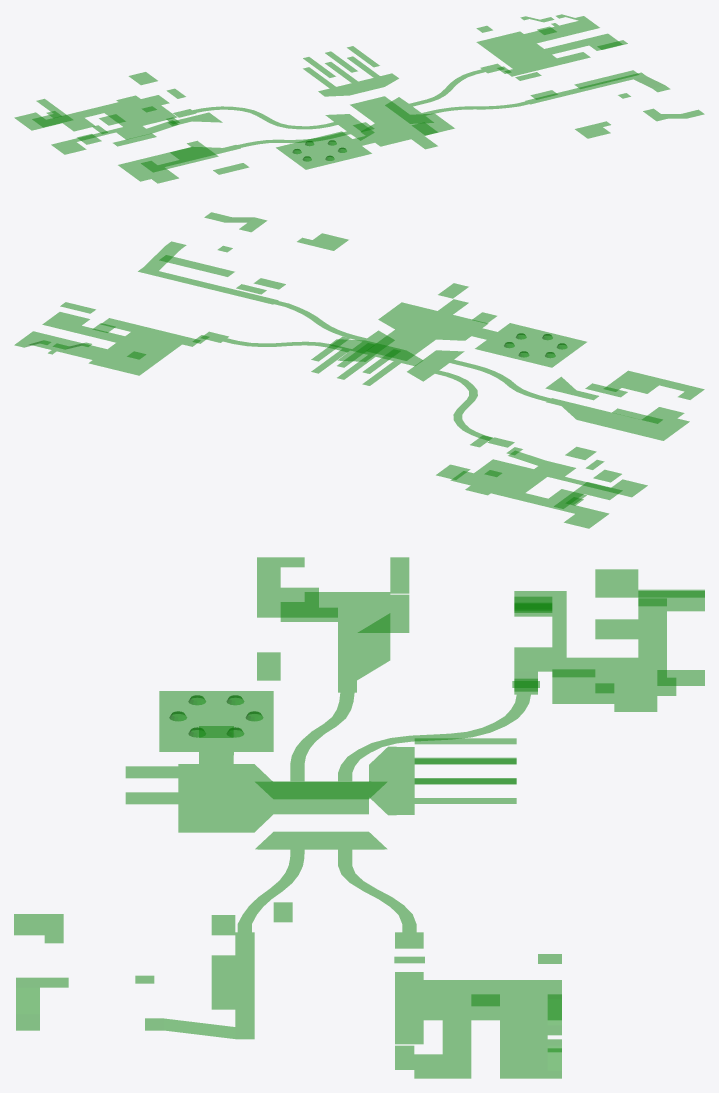
The model's file is stg156_road.obj.
3 views of the same model, one above another, from view 1: azimuth 30°, elevation 25°; view 2: azimuth 150°, elevation 25°; view 3: azimuth 270°, elevation 25° (orthographic). The views are drawn at different scales.
Bounding box in the file's own units: 242 × 16.5 × 145.
